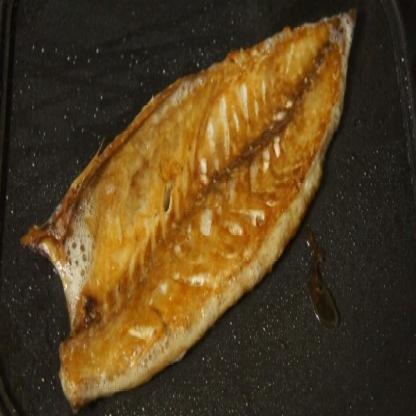Peixe: (19, 1, 363, 416)
